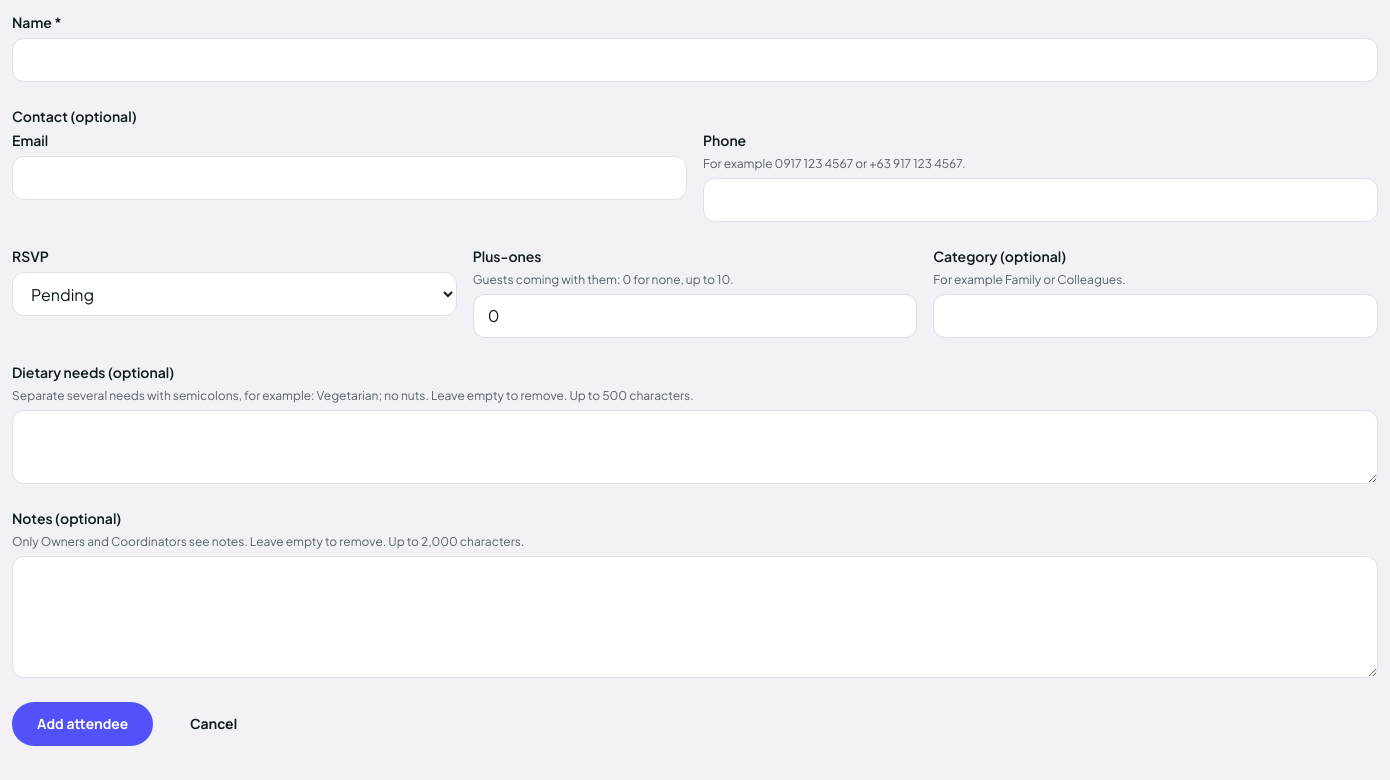
Scenario: AttendeeForm › disables the button and says it is working while saving, so it can't be sent twice
Type "Maria" into the field labelled "Name *" at (695,60), box [12,38,1378,82]
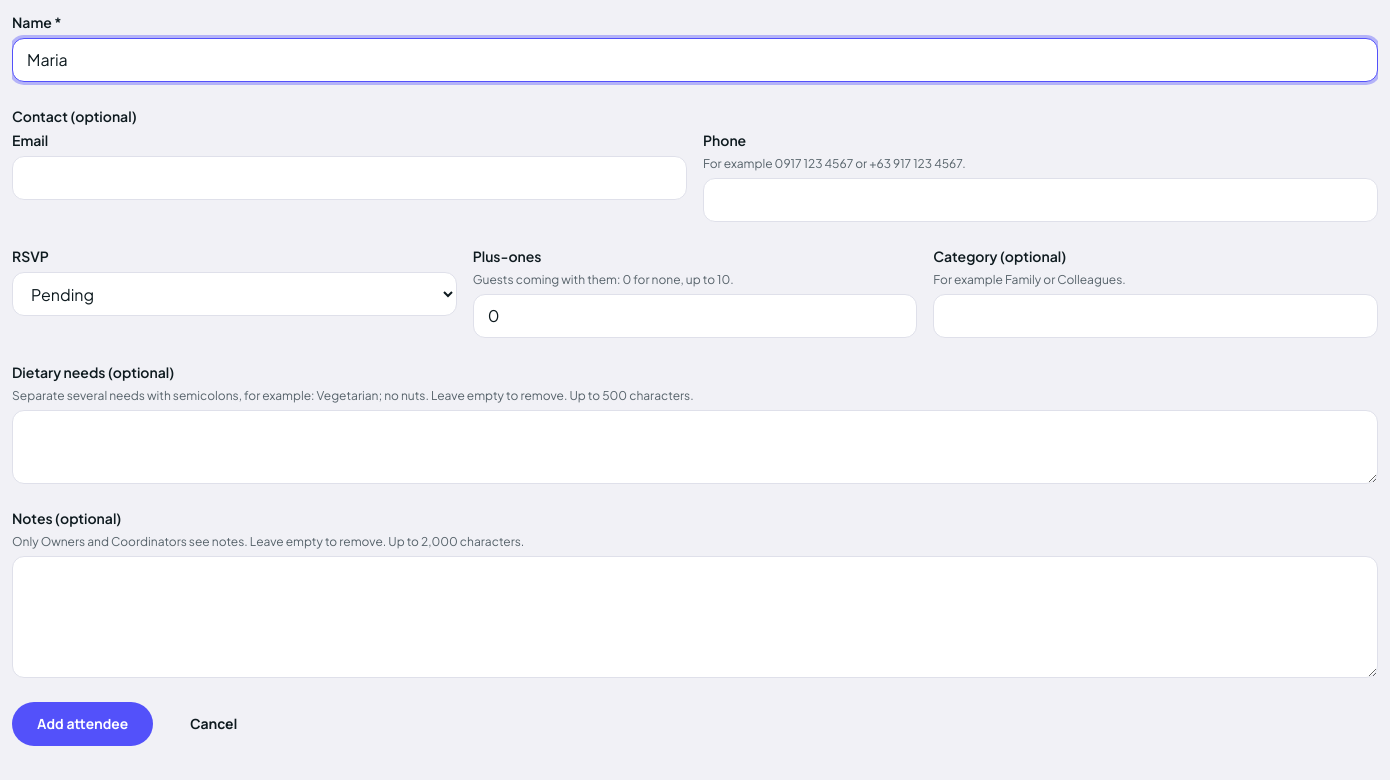
Click the button "Add attendee" at (83,724), box [12,702,153,746]
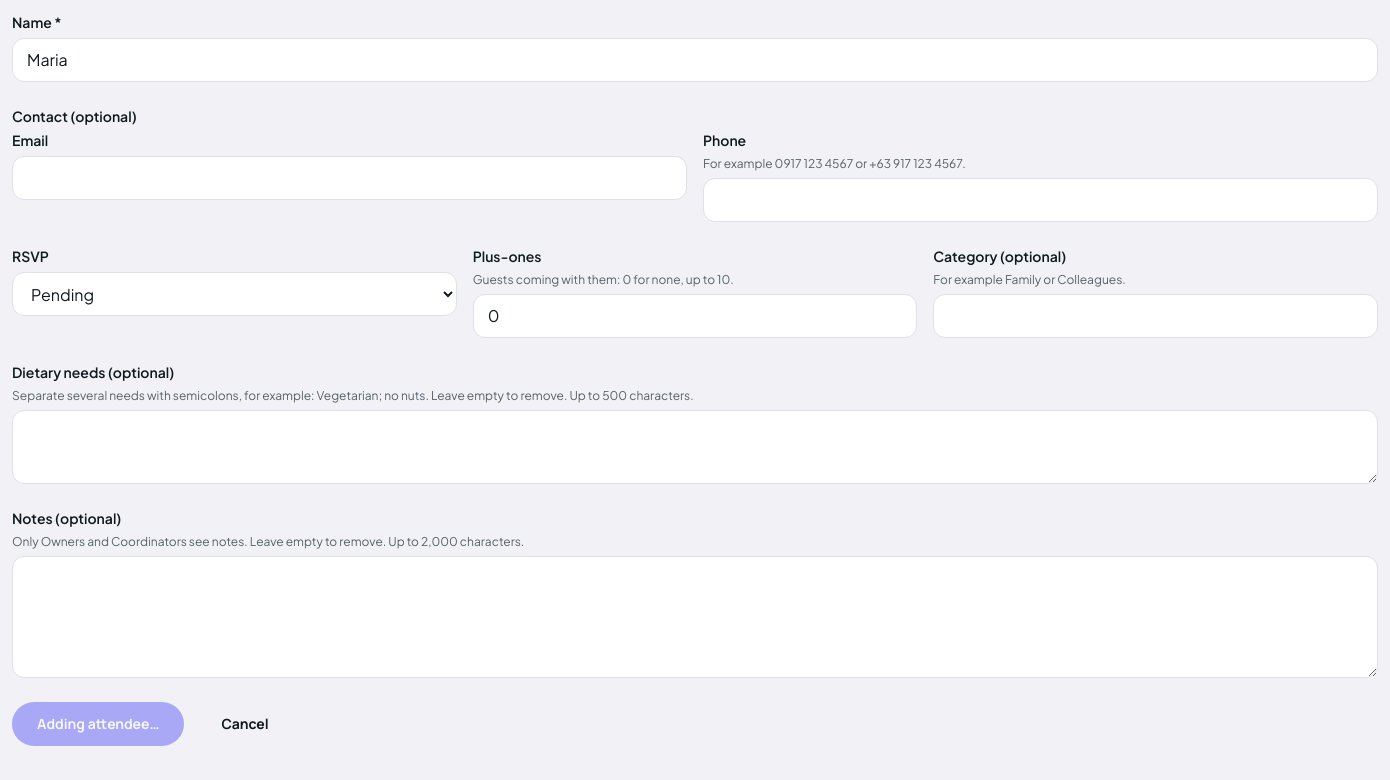
Expected: the button "Adding attendee…" is disabled
Click the button "Adding attendee…" at (98,724), box [12,702,184,746]
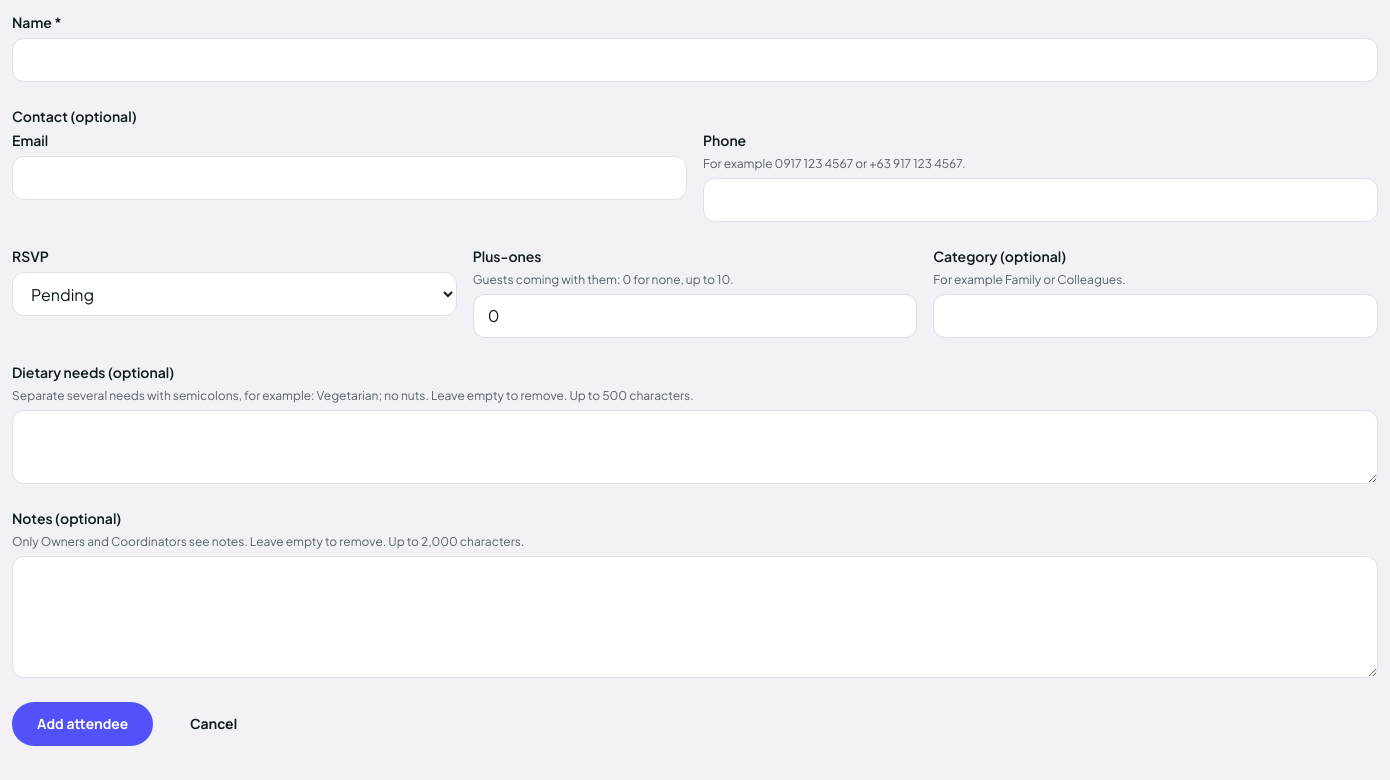
Expected: the button "Add attendee" is enabled, [12,702,153,746]
